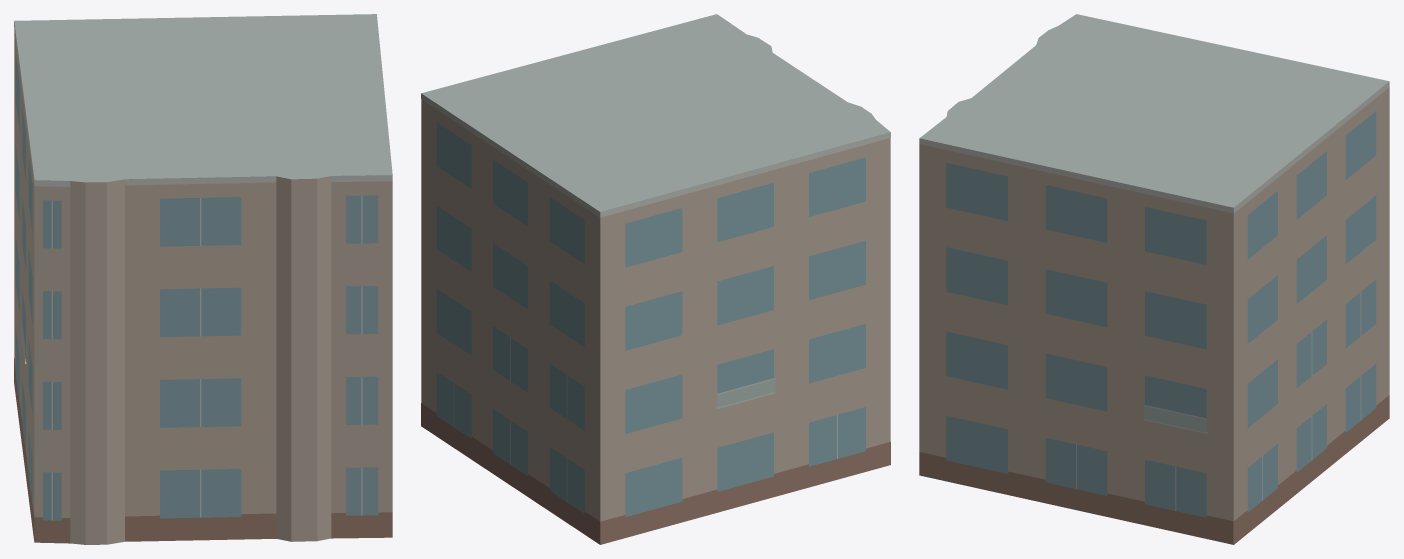
File: survey-upis-32706622.glb
The picture shows the model from 3 angles, left to right: view 1: azimuth 30°, elevation 25°; view 2: azimuth 150°, elevation 25°; view 3: azimuth 270°, elevation 25°; orthographic projection. The views are drawn at different scales.
Parts seen in each view (by area): view 1: survey-upis-32706622.tmp; view 2: survey-upis-32706622.tmp; view 3: survey-upis-32706622.tmp.
Boxes of the visible parts, bbox=[...] form: survey-upis-32706622.tmp: bbox=[14, 14, 392, 544]; survey-upis-32706622.tmp: bbox=[421, 14, 890, 544]; survey-upis-32706622.tmp: bbox=[919, 14, 1389, 544].
Size of the model in its own units: 17.64 by 14.3 by 18.08.
